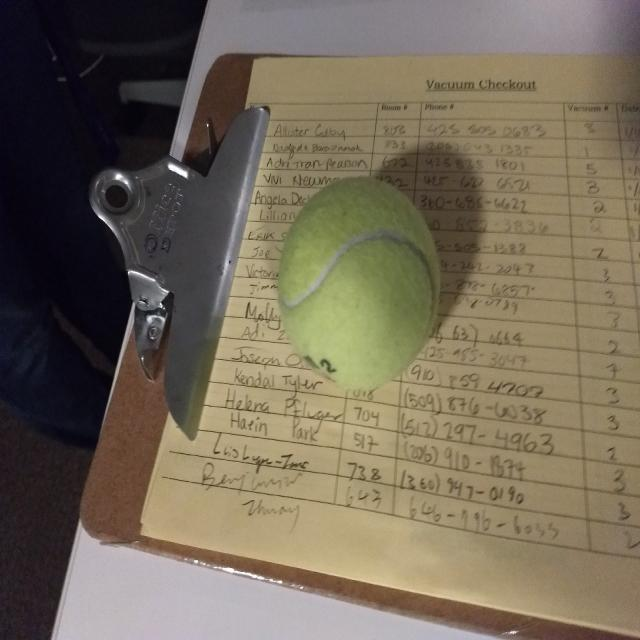tennis-ball: (274, 178, 447, 394)
